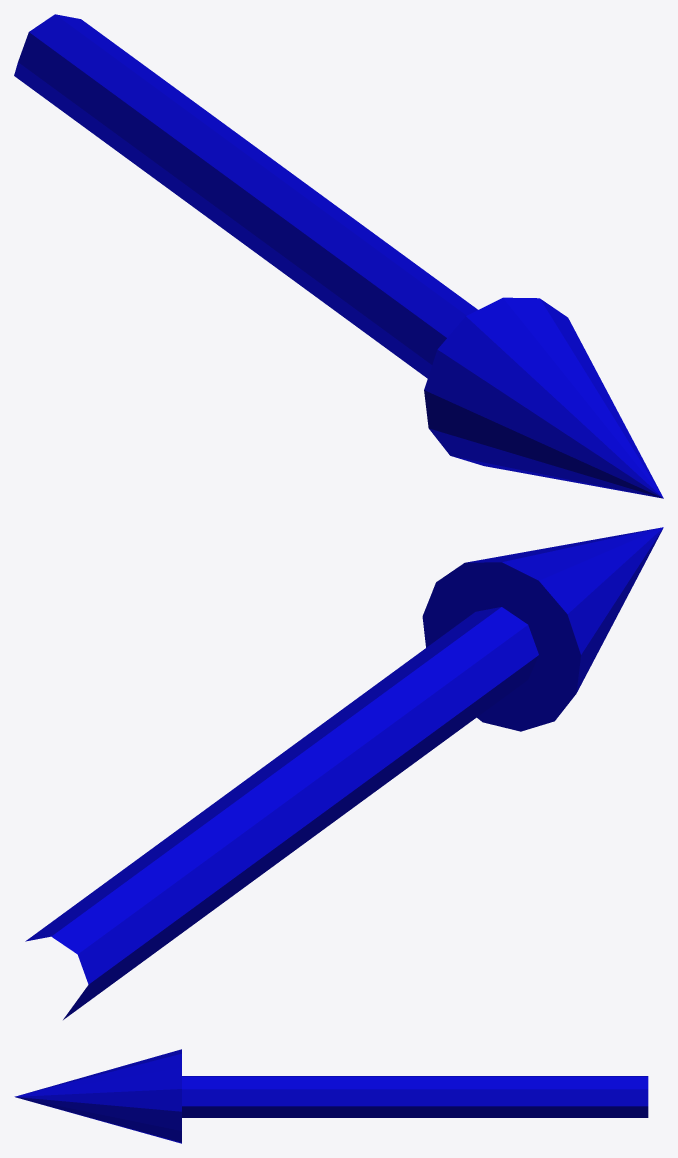
The model's file is translation-gizmo-z.glb.
3 views of the same model, one above another, from view 1: azimuth 30°, elevation 25°; view 2: azimuth 150°, elevation 25°; view 3: azimuth 270°, elevation 25° (orthographic). The views are drawn at different scales.
Visible parts, largest first — view 1: translation-gizmo-z; view 2: translation-gizmo-z; view 3: translation-gizmo-z.
Part boxes in pixels (bbox=[...]): translation-gizmo-z: bbox=[14, 14, 663, 498]; translation-gizmo-z: bbox=[25, 527, 663, 1019]; translation-gizmo-z: bbox=[14, 1049, 648, 1143].
Bounding box in the file's own units: 0.5404 × 0.5365 × 3.71.
